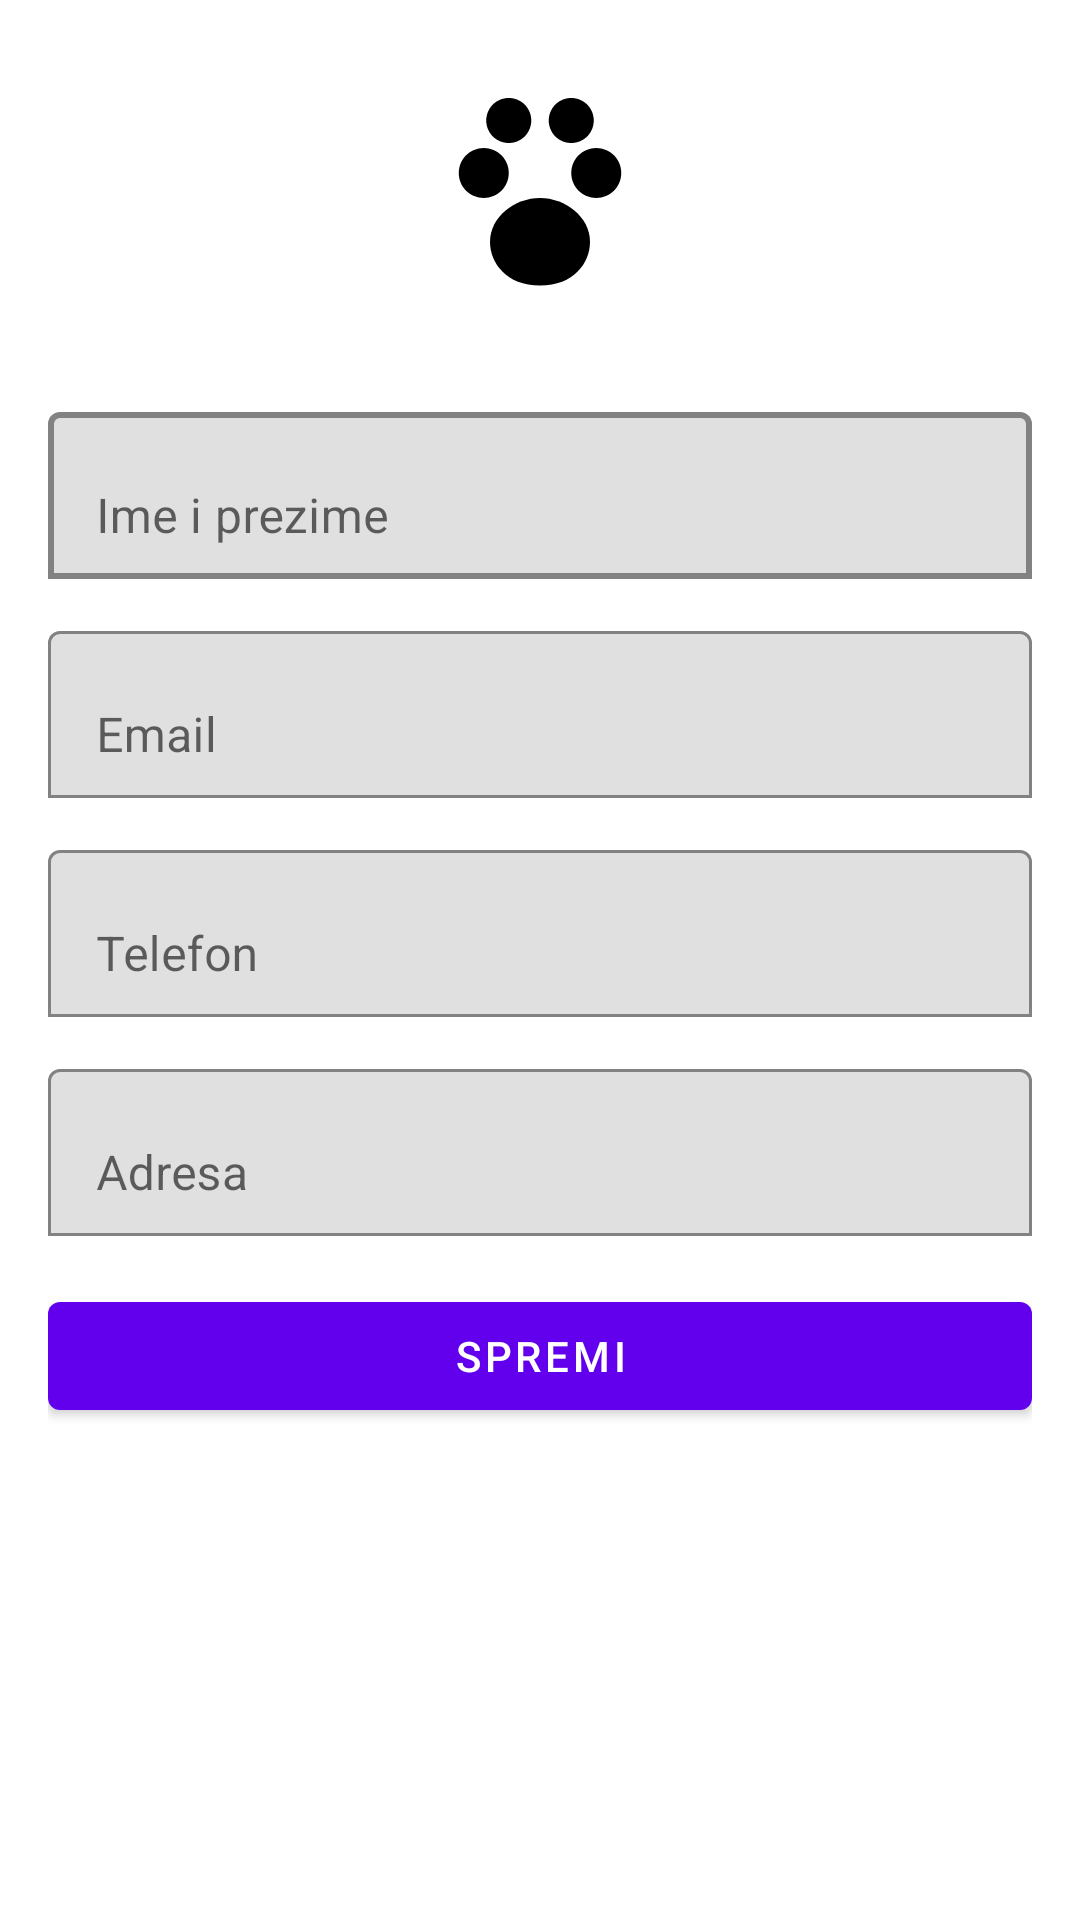

Icon bounding boxes for this 1080px x 1920px phone screenshot, format (x1, y1, x2, y2):
paw: (458, 98, 622, 286)
